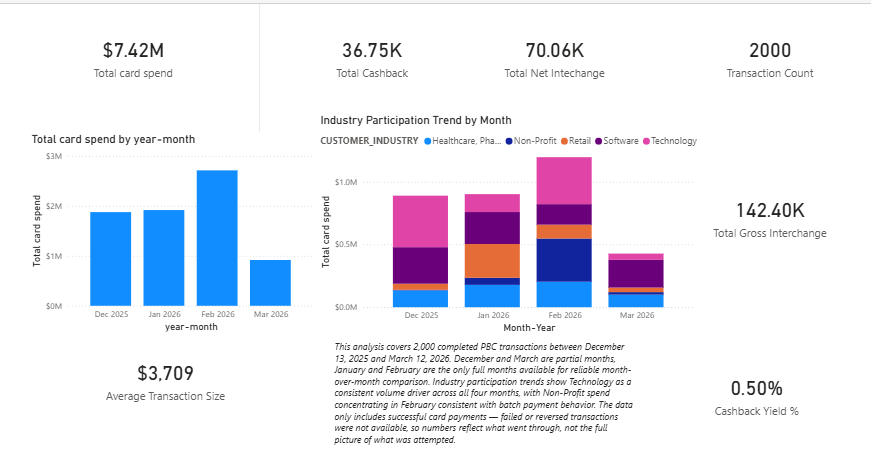

What the dashboard file says about the page in this screenshot:
{"tool":"powerbi","page":{"name":"Page 1","canvas":[1280,720],"ordinal":0},"visuals":[{"type":"card","fields":{"Values":["Data.Total card spend"]},"box":[10.1,0,369.6,248.6],"z":0},{"type":"card","fields":{"Values":["Data.Total Cashback"]},"box":[379.6,0,330.9,248.6],"z":1000},{"type":"card","fields":{"Values":["Data.Average Transaction Type"]},"box":[0,474.1,484.4,245.9],"z":2000},{"type":"card","fields":{"Values":["Data.Total Net Intechange"]},"box":[651.8,0,320.8,248.6],"z":3000},{"type":"card","fields":{"Values":["Data.Transaction Count"]},"box":[972.6,0,307.4,248.6],"z":4000},{"type":"card","fields":{"Values":["Data.Cashback Yield %"]},"box":[935.6,517.4,344.4,201.6],"z":5000},{"type":"columnChart","fields":{"Y":["Data.Total card spend"],"Category":["Data.year-month"]},"box":[40.3,235.2,423.3,297.3],"z":6000},{"type":"card","fields":{"Values":["Data.Total Gross Interchange"]},"box":[972.6,241.9,307.4,233.5],"z":7000},{"type":"textbox","box":[484,536,452,184],"z":8000},{"type":"columnChart","title":"Industry Participation Trend by Month","fields":{"Category":["Data.Month-Year"],"Y":["Data.Total card spend"],"Series":["Data.CUSTOMER_INDUSTRY"]},"box":[463.6,208.3,557.7,327.6],"z":9000}]}

Visuals, with their boxes on the page's 1280x720 design canvas (x1, y1, x2, y2). These are canvas units, not pixel positions in the 871x460 screenshot, which may show the page scaled, cropped or inside an application window:
card - Data.Total card spend: [left=10, top=0, right=380, bottom=249]
card - Data.Total Cashback: [left=380, top=0, right=710, bottom=249]
card - Data.Average Transaction Type: [left=0, top=474, right=484, bottom=720]
card - Data.Total Net Intechange: [left=652, top=0, right=973, bottom=249]
card - Data.Transaction Count: [left=973, top=0, right=1280, bottom=249]
card - Data.Cashback Yield %: [left=936, top=517, right=1280, bottom=719]
columnChart - Data.Total card spend x Data.year-month: [left=40, top=235, right=464, bottom=532]
card - Data.Total Gross Interchange: [left=973, top=242, right=1280, bottom=475]
textbox: [left=484, top=536, right=936, bottom=720]
"Industry Participation Trend by Month" columnChart: [left=464, top=208, right=1021, bottom=536]
